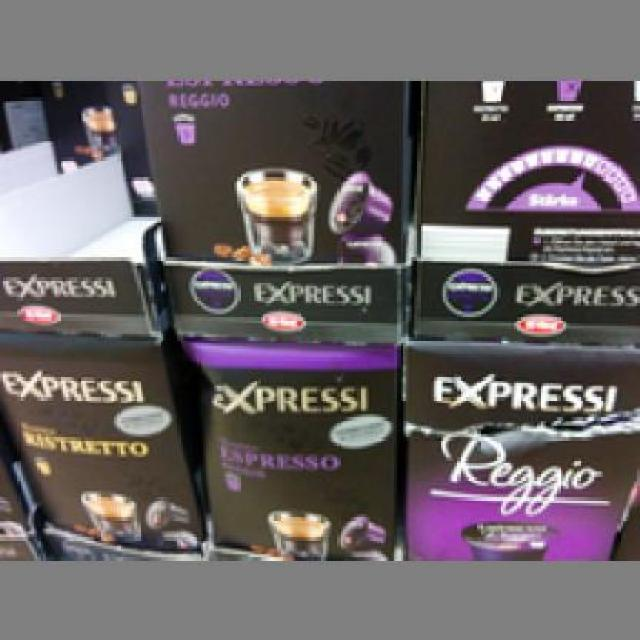Coffee: (408, 77, 638, 320), (134, 76, 406, 270), (394, 337, 637, 552), (174, 332, 400, 554), (0, 328, 206, 552)
